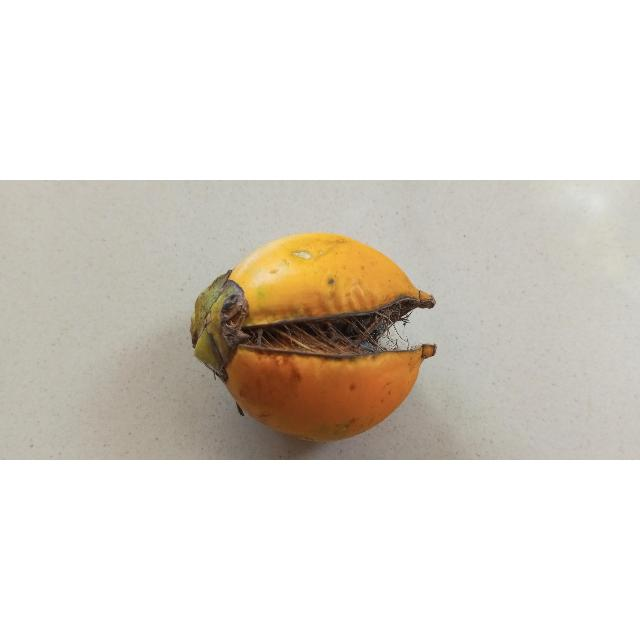damaged: (190, 233, 437, 443)
